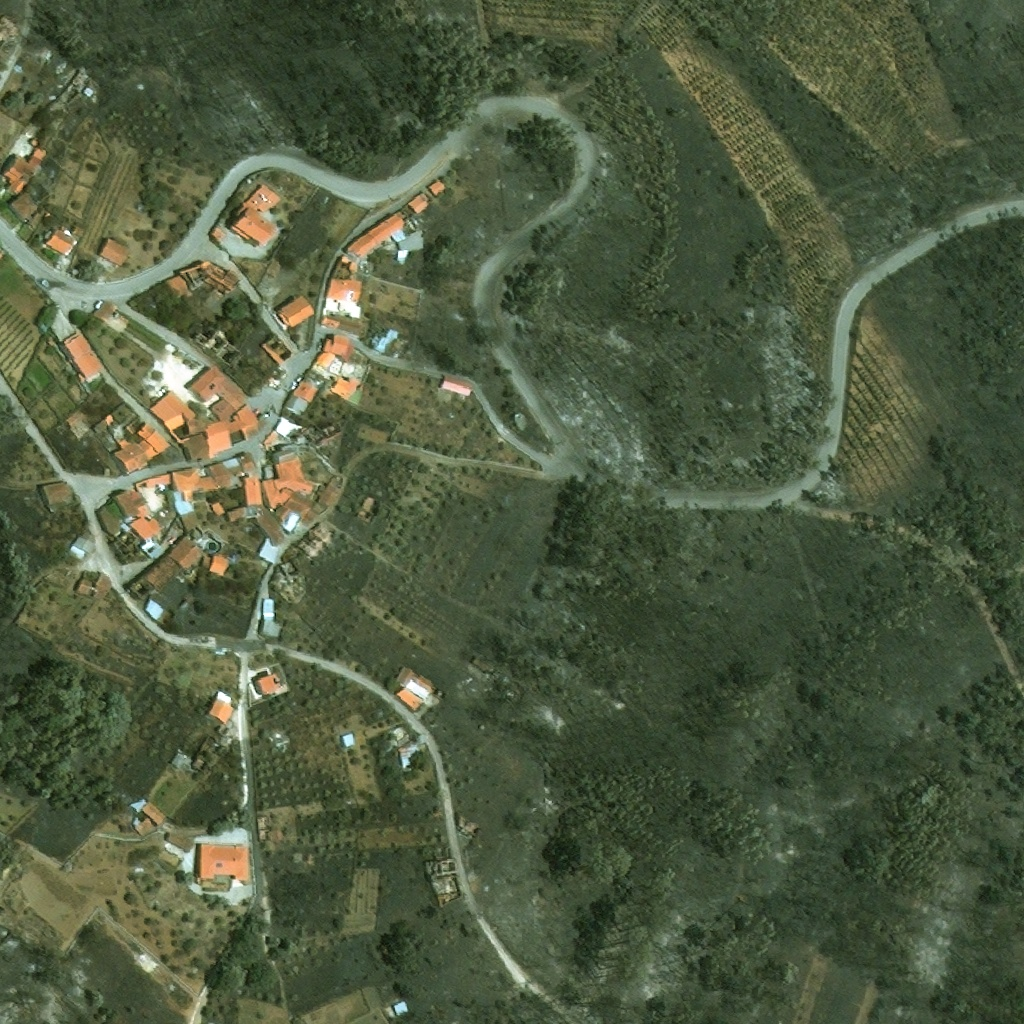0 no-damage: (226, 182, 281, 247), (261, 444, 315, 509), (189, 364, 248, 420), (202, 403, 268, 453), (113, 421, 172, 474), (58, 329, 105, 381), (248, 504, 286, 564), (1, 147, 46, 195), (155, 396, 210, 435), (324, 256, 362, 311), (195, 843, 250, 880), (394, 664, 448, 701), (207, 452, 257, 489), (274, 491, 317, 534), (170, 467, 218, 501), (274, 293, 316, 329), (395, 219, 424, 262), (365, 212, 405, 243), (112, 489, 151, 520), (96, 236, 131, 268), (205, 688, 236, 724), (128, 797, 166, 825), (319, 311, 363, 335), (7, 190, 39, 222), (343, 231, 377, 261), (95, 503, 125, 537), (180, 433, 215, 462), (44, 227, 78, 256), (67, 528, 96, 562), (258, 597, 283, 636), (39, 480, 73, 507), (135, 470, 172, 494), (368, 326, 398, 355), (322, 333, 354, 360), (439, 373, 474, 397), (329, 375, 361, 401), (130, 516, 163, 541), (253, 670, 280, 697), (292, 377, 320, 403), (283, 391, 311, 416), (164, 831, 195, 853), (91, 298, 117, 324), (406, 189, 434, 213), (200, 553, 229, 576), (92, 571, 113, 602), (316, 482, 340, 509), (395, 687, 423, 709), (140, 537, 165, 561), (173, 491, 195, 516), (144, 598, 165, 621), (132, 816, 156, 836), (179, 511, 201, 531), (75, 576, 95, 597), (314, 350, 337, 367), (243, 483, 262, 503), (208, 224, 227, 243), (395, 204, 416, 221), (225, 505, 246, 521), (427, 179, 446, 196), (391, 1000, 409, 1017), (29, 209, 45, 228), (210, 500, 225, 516), (341, 732, 354, 747), (28, 135, 40, 146), (72, 226, 84, 237)
2 major-damage: (128, 534, 203, 601), (91, 407, 122, 435), (262, 429, 286, 454)
3 destroyed: (162, 259, 244, 298), (191, 326, 245, 369), (57, 66, 101, 107), (274, 417, 326, 448), (296, 519, 334, 558), (259, 331, 294, 365), (393, 724, 415, 768), (0, 13, 19, 51), (456, 812, 480, 838), (257, 816, 278, 841), (432, 858, 457, 877), (278, 557, 300, 578), (436, 890, 463, 907), (321, 421, 343, 441), (510, 410, 530, 432), (188, 754, 208, 774), (170, 750, 188, 768), (49, 116, 63, 130), (216, 723, 229, 736), (124, 422, 137, 434), (274, 731, 284, 743)
4 un-classified: (0, 248, 5, 257)
